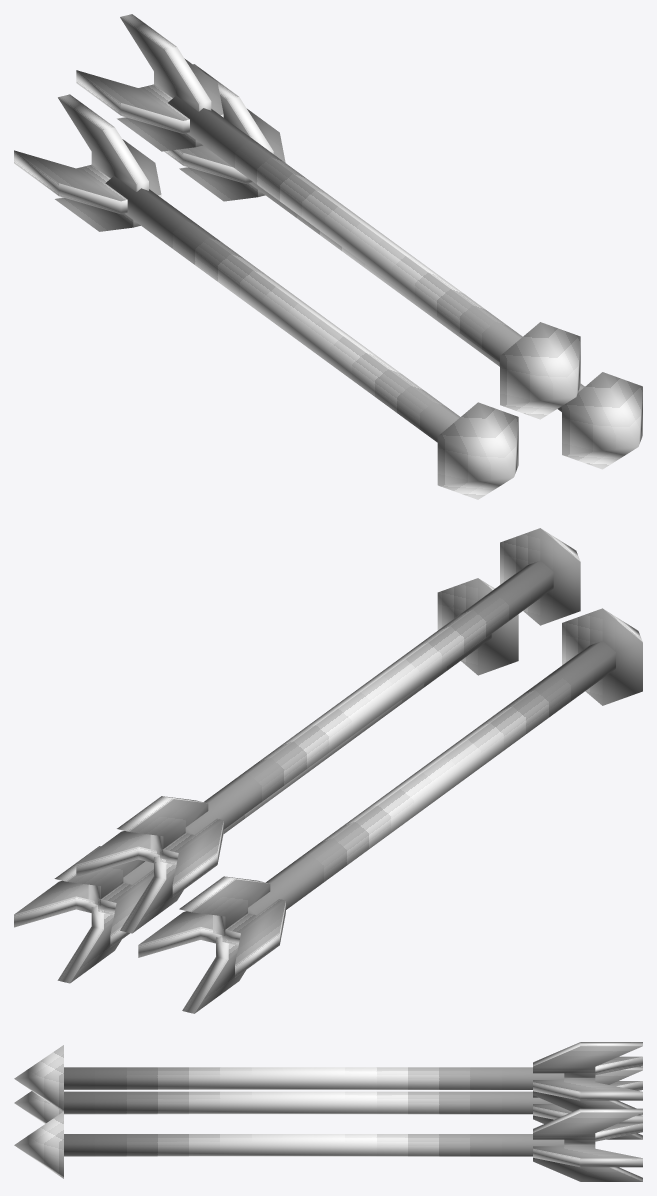
File: Arrow.fbx
The picture shows the model from 3 angles, top to bottom: view 1: azimuth 30°, elevation 25°; view 2: azimuth 150°, elevation 25°; view 3: azimuth 270°, elevation 25°; orthographic projection. The views are drawn at different scales.
Visible parts, largest first — view 1: COLOR1, COLOR2; view 2: COLOR1, COLOR2; view 3: COLOR2, COLOR1.
Part boxes in pixels (box(x1,y1,x2,y2)): COLOR1: box(14, 14, 642, 499); COLOR2: box(105, 95, 584, 442); COLOR1: box(14, 528, 642, 1013); COLOR2: box(123, 560, 615, 915); COLOR2: box(64, 1067, 564, 1156); COLOR1: box(14, 1042, 642, 1181).
Bounding box in the file's own units: 71 × 51 × 252.
Materials: 1 (1 with a texture image).
